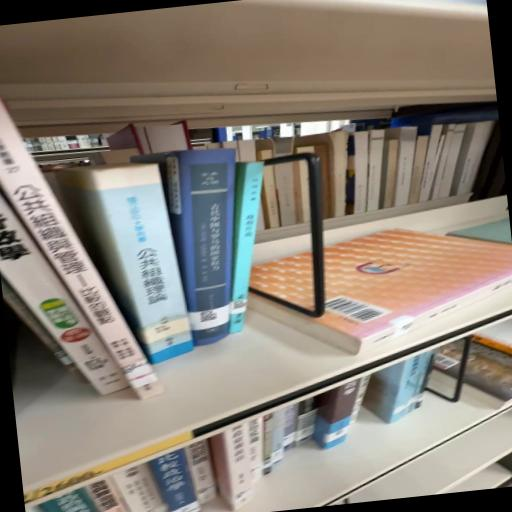flat: (250, 230, 512, 355), (252, 254, 313, 310)
